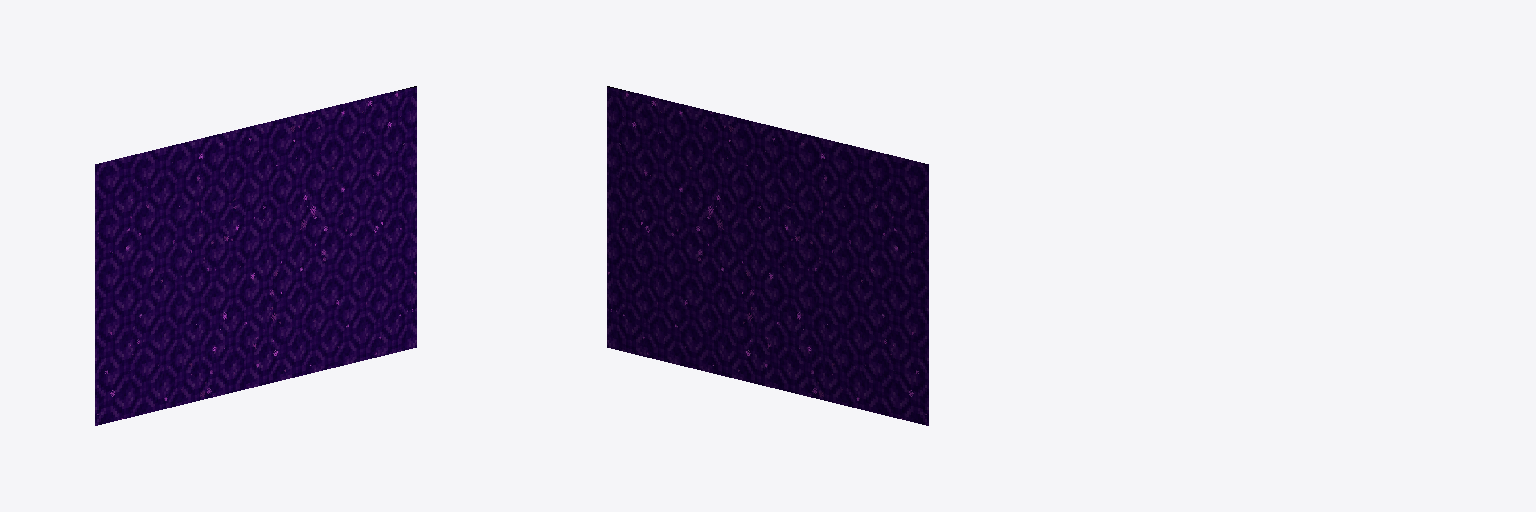
The picture shows the model from 3 angles: view 1: azimuth 30°, elevation 25°; view 2: azimuth 150°, elevation 25°; view 3: azimuth 270°, elevation 25°; orthographic projection.
Parts seen in each view (by area): view 1: Portal_Plane.002; view 2: Portal_Plane.002; view 3: none.
Boxes of the visible parts, box(x1,y1,x2,y2) form: Portal_Plane.002: box(95, 86, 416, 425); Portal_Plane.002: box(607, 86, 928, 425).
Size of the model in its own units: 5.98 by 4.64 by 0.
Materials: 1 (1 with a texture image).